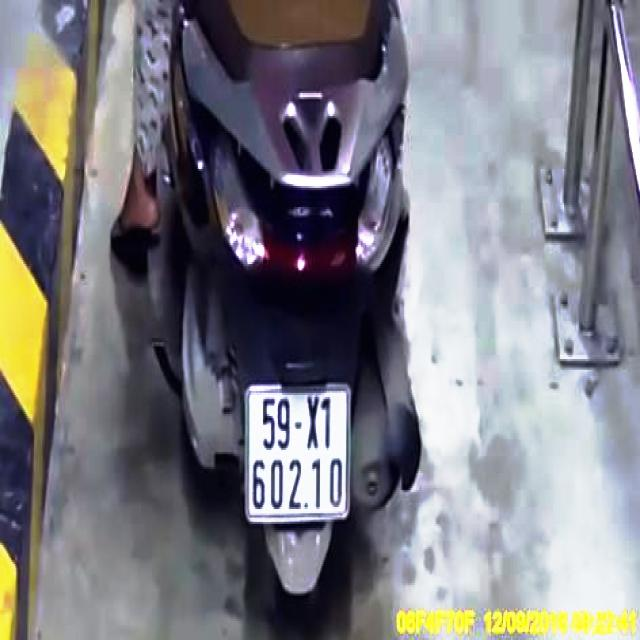license_plate: (249, 390, 348, 518)
